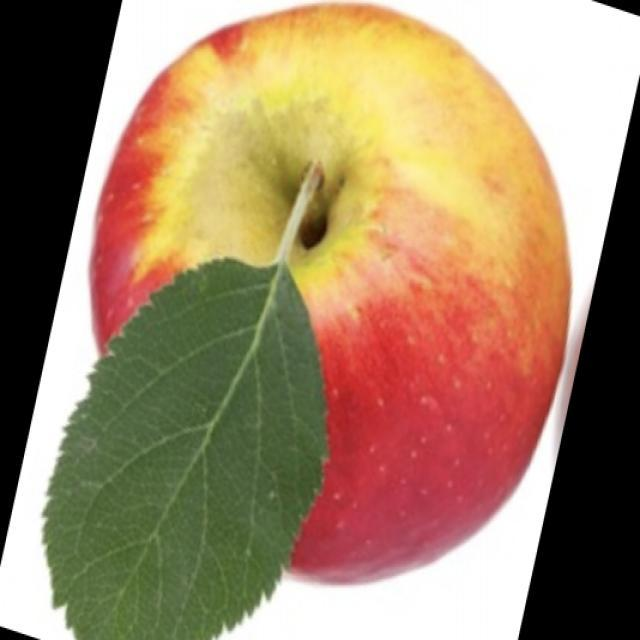Fresh Apple: (110, 36, 533, 566)
